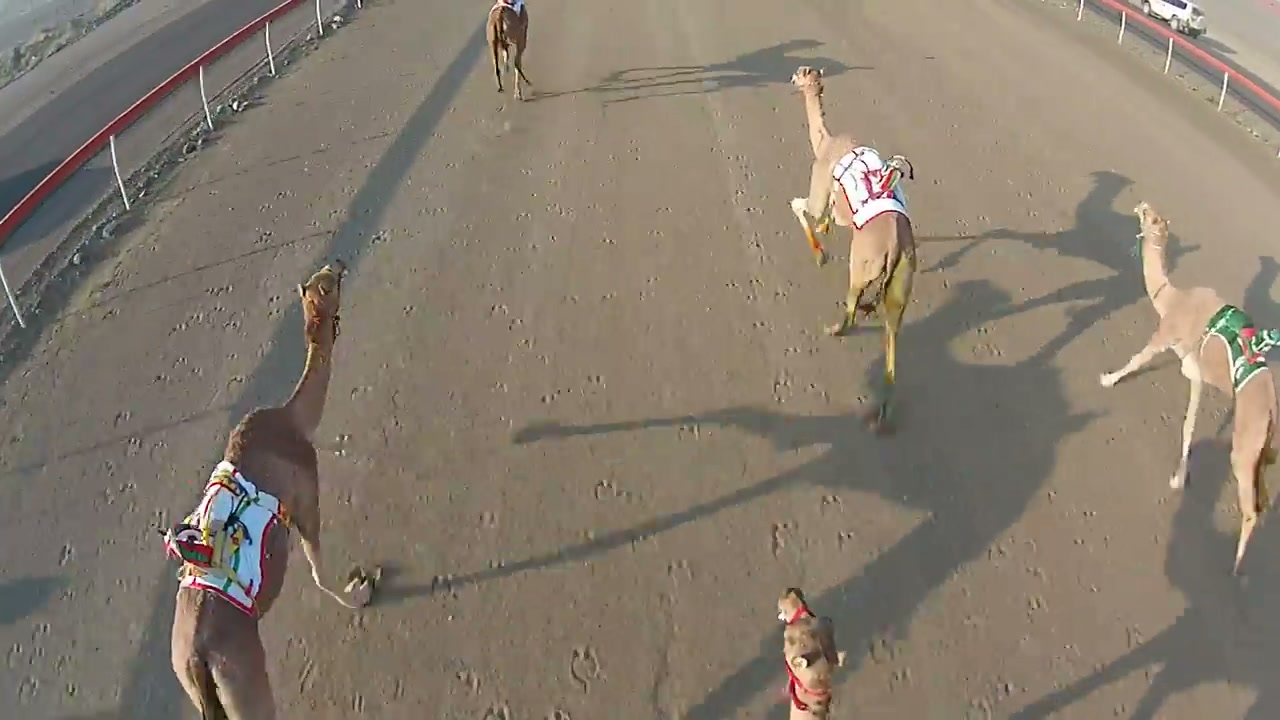animal_footprint: (13, 138, 342, 719), (697, 107, 962, 688), (448, 149, 608, 719)
